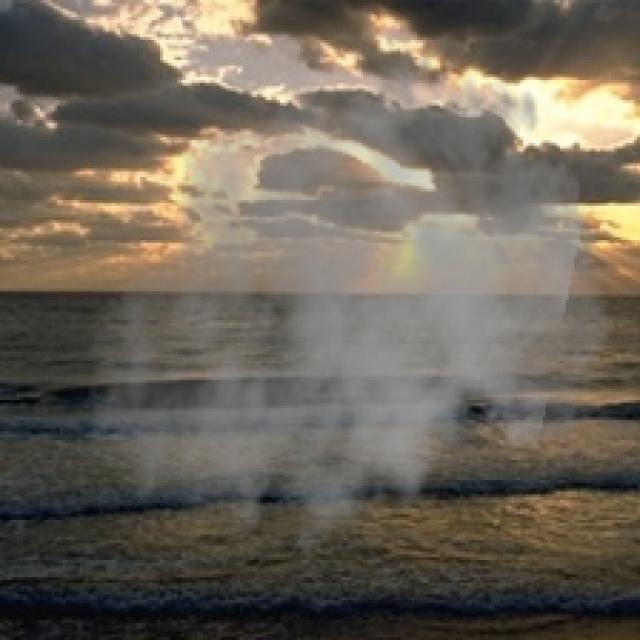smoke: (83, 26, 623, 588)
